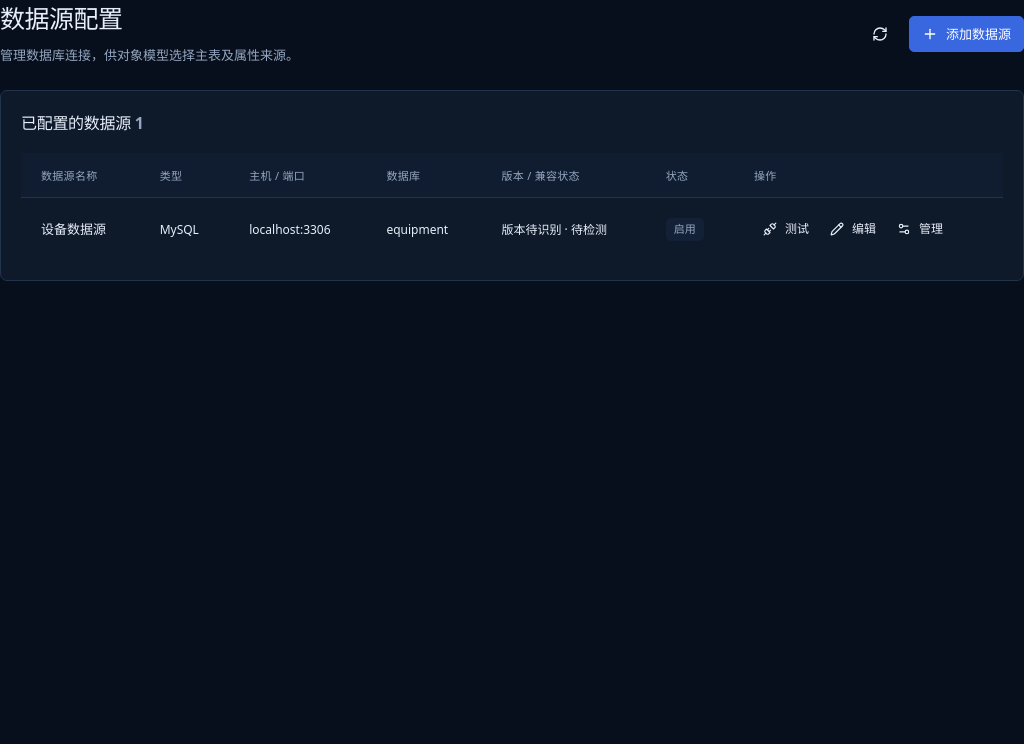
Test case: 数据源配置 › 旧配置默认自动识别，版本选项来自服务端，待适配系列禁用，切换类型清除原版本约束
Click the button with aria-label "设备数据源": (853, 229) 821,212 -> 885,246
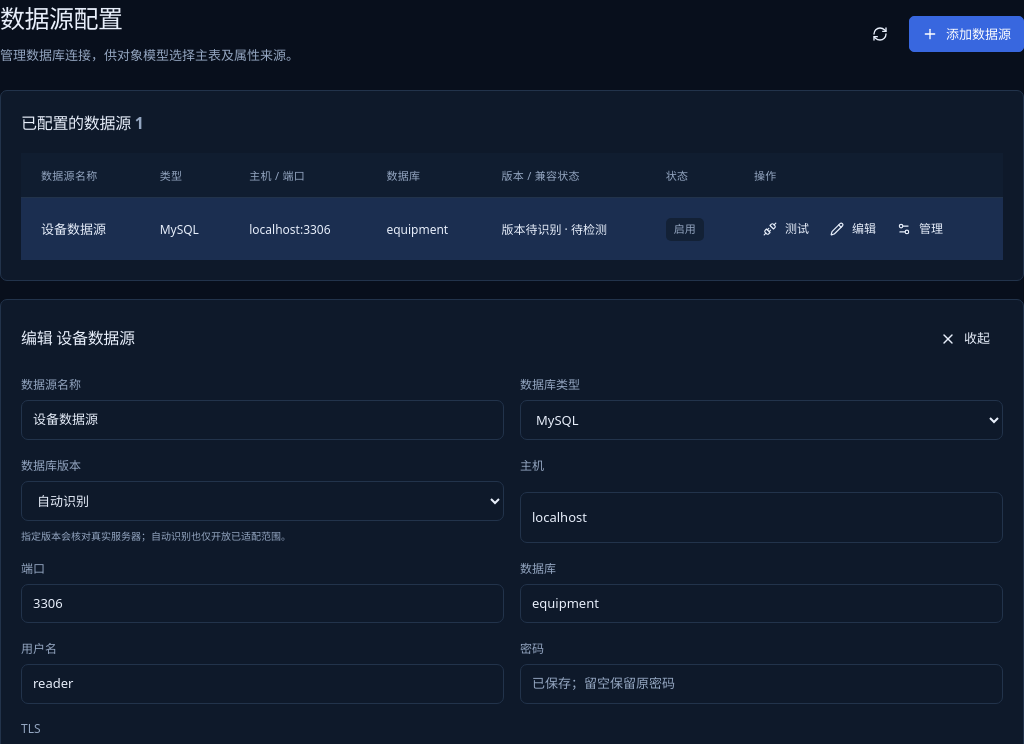
Expected: the dropdown labelled "数据库版本" shows "自动识别"
Select "MySQL 26.7" in the dropdown labelled "数据库版本": (262, 501) 21,481 -> 504,521
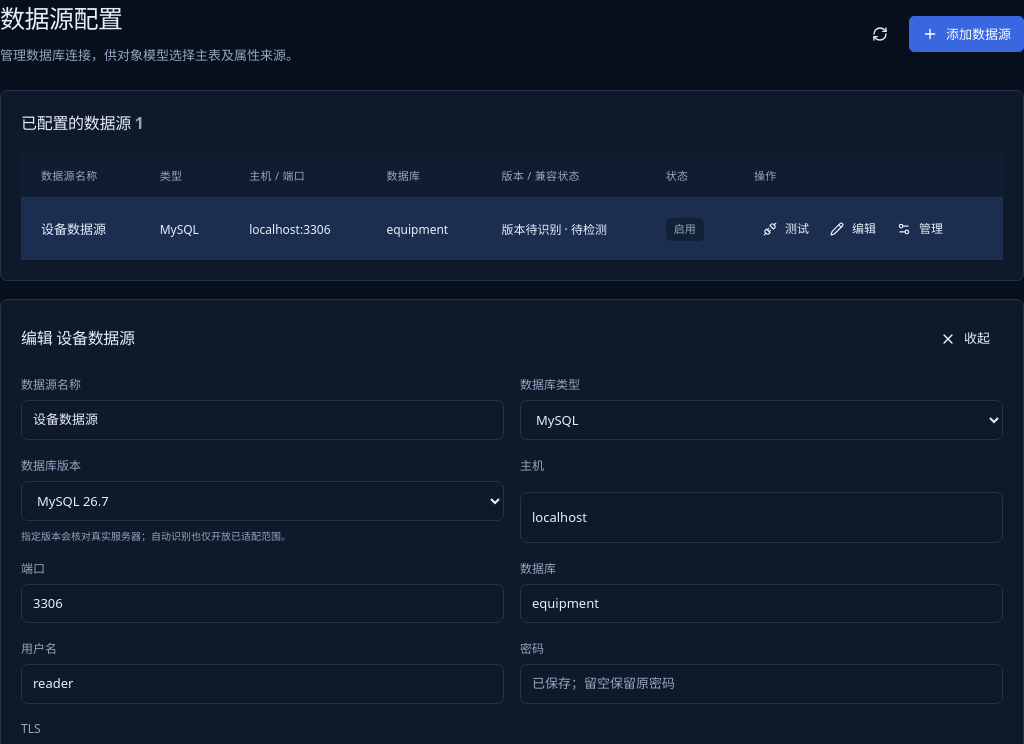
Select "PostgreSQL" in the dropdown labelled "数据库类型": (762, 420) 520,400 -> 1003,440
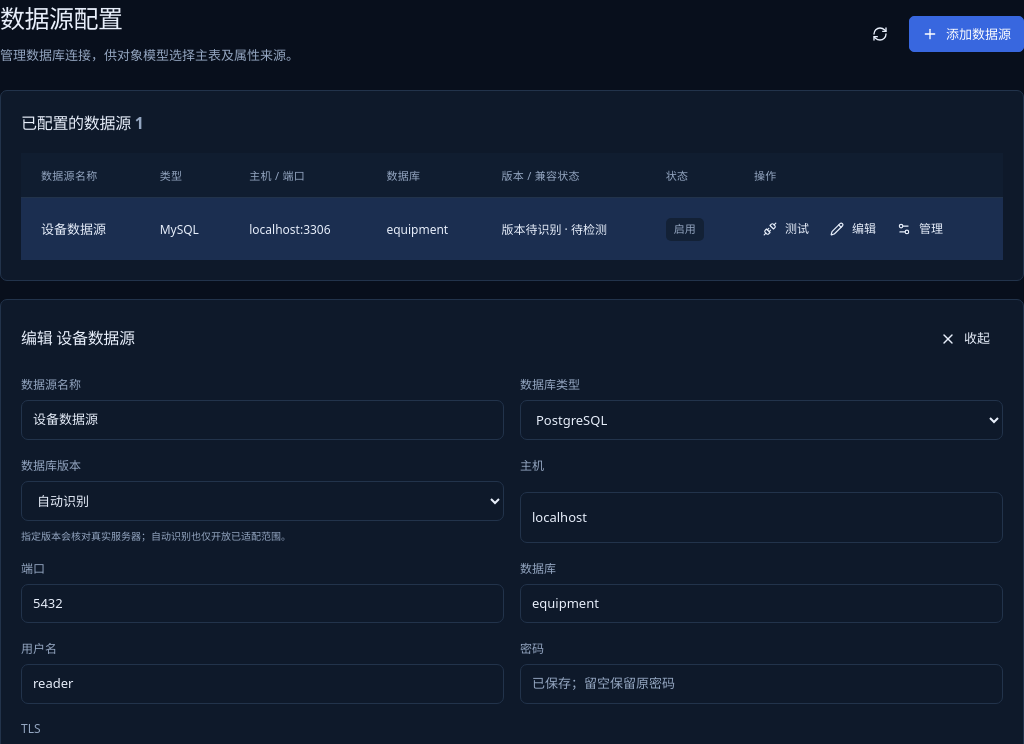
Expected: the option "MySQL 26.7" is not shown
Expected: the number field named "数据库端口" holds "5432", 21,584 -> 504,623
